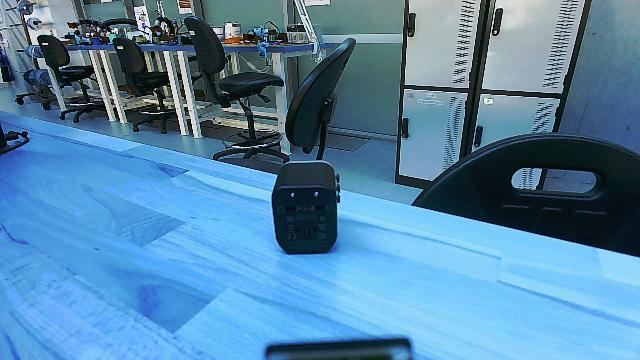adapter: (268, 154, 344, 262)
